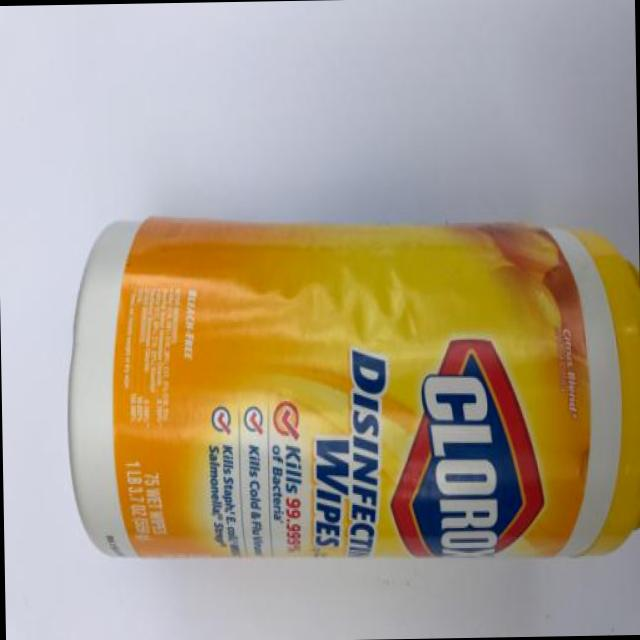Recycle: (68, 191, 640, 564)
